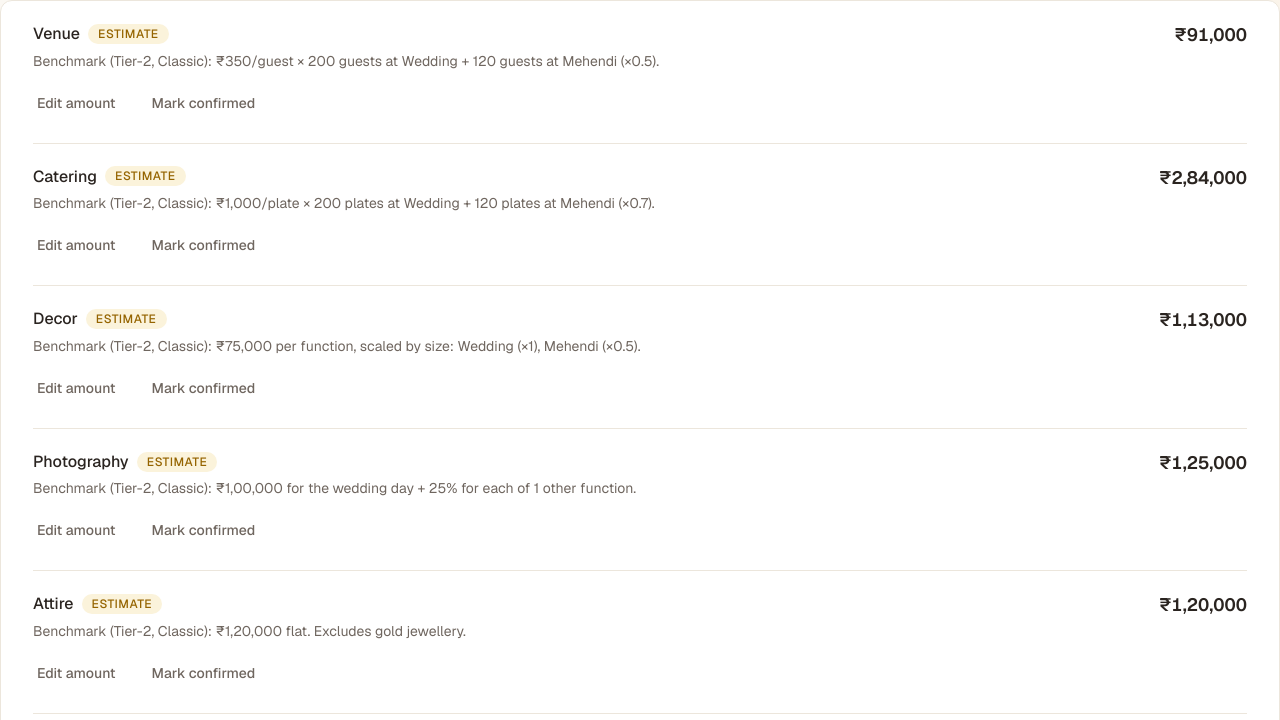
Test: BudgetTab › saves an override and keeps the benchmark visible for comparison
Click the button with aria-label "Edit amount for Venue" at (76, 103), box [21, 83, 132, 123]
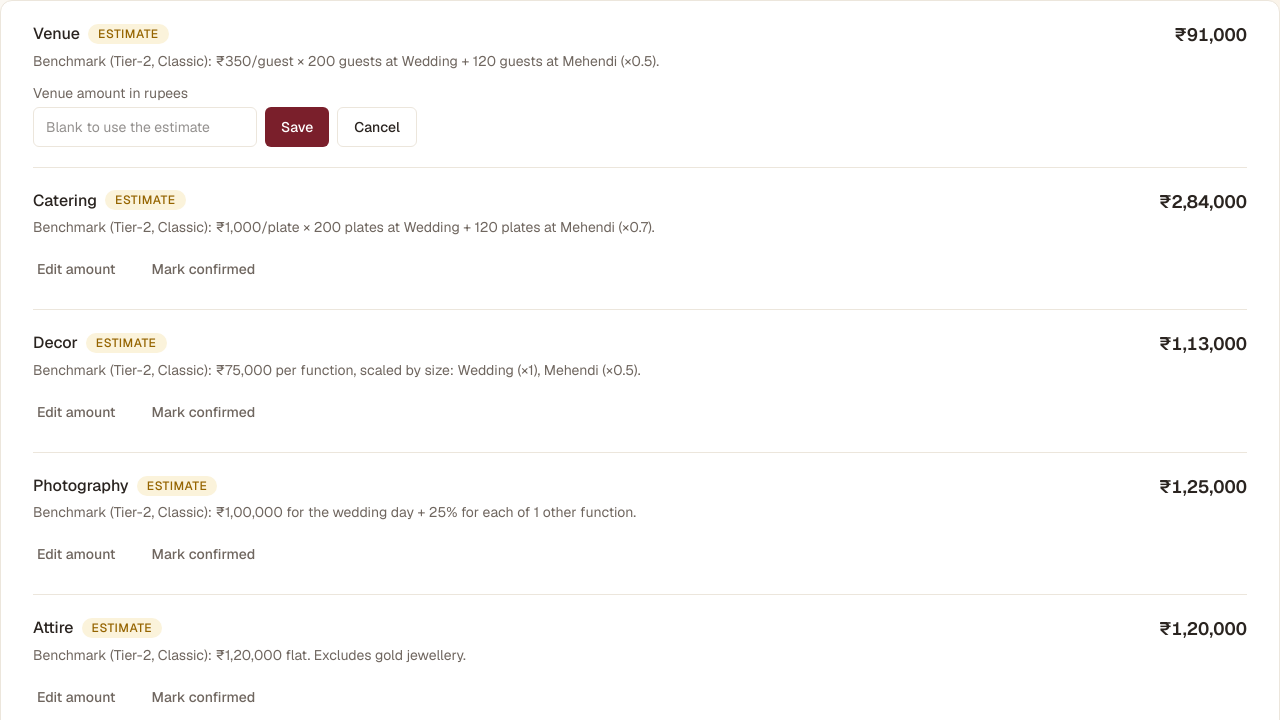
Type "150000" into the number field labelled "Venue amount in rupees" at (145, 127), box [33, 107, 257, 147]
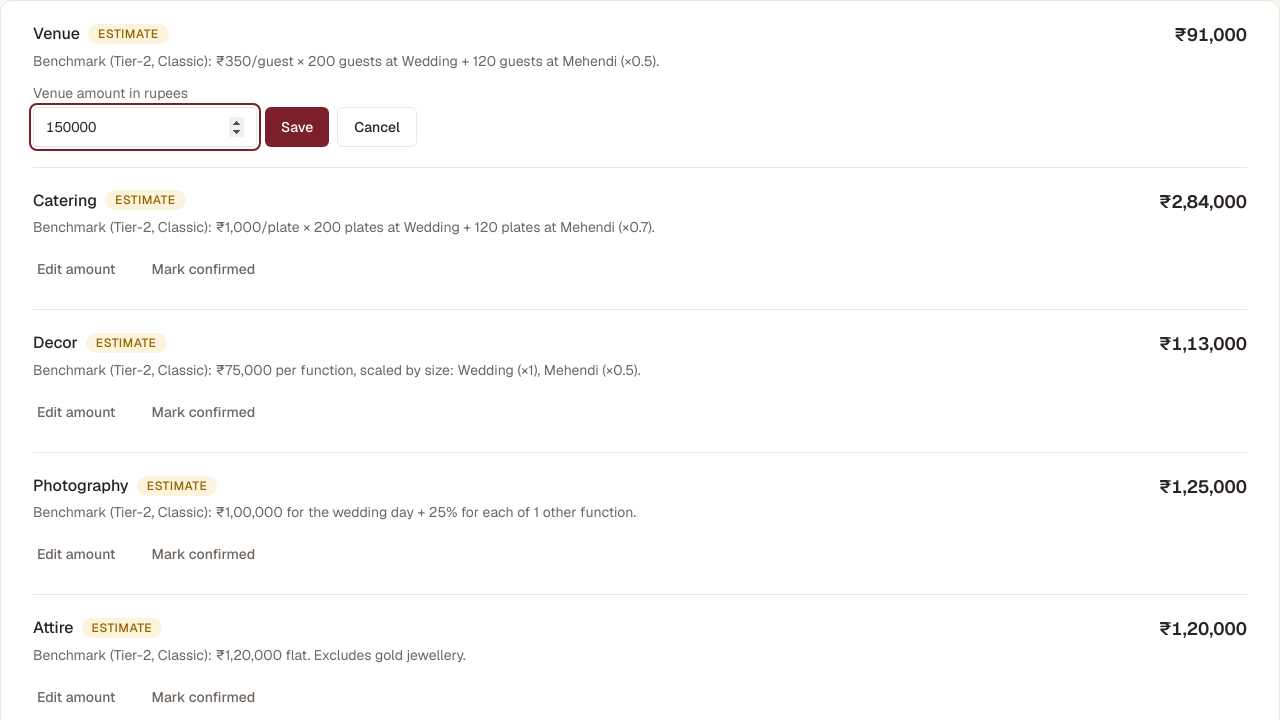
Click the button "Save" at (297, 127), box [265, 107, 329, 147]
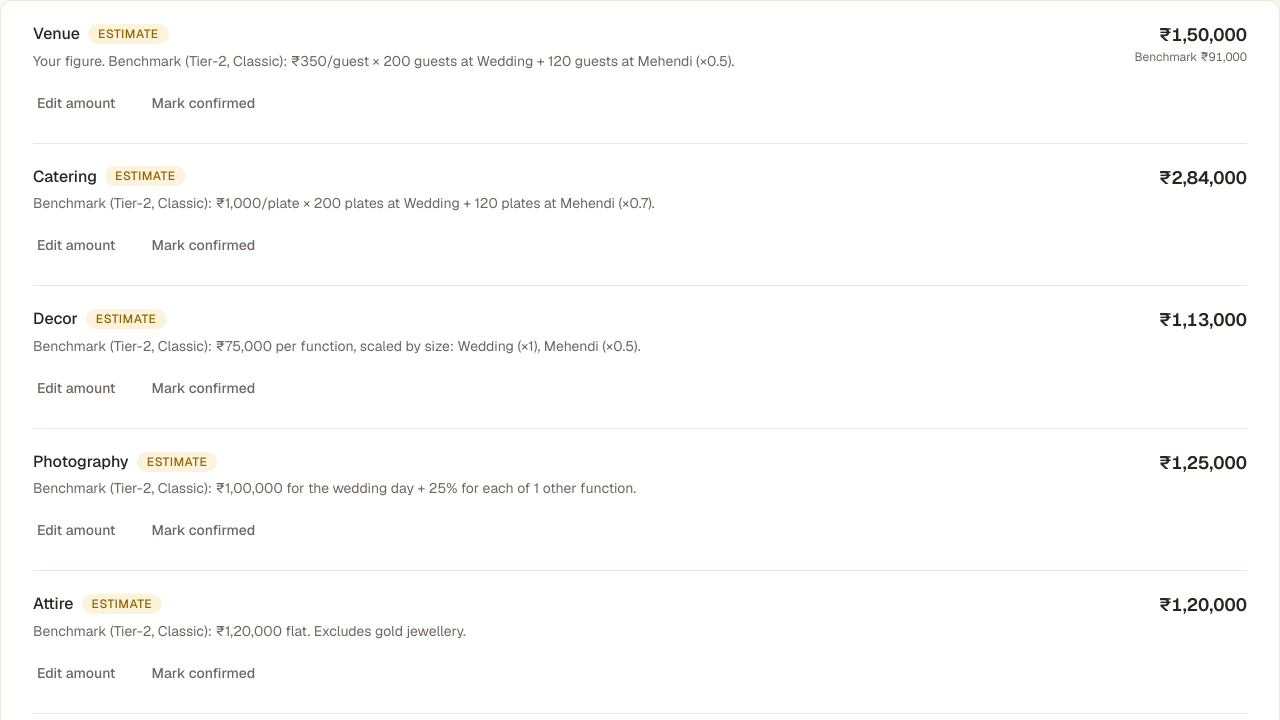
Now the text "₹1,50,000" is shown, box [1159, 23, 1247, 46]
Now the text "Benchmark ₹91,000" is shown, box [1134, 49, 1247, 65]
Now the label labelled "Venue amount in rupees" is gone
